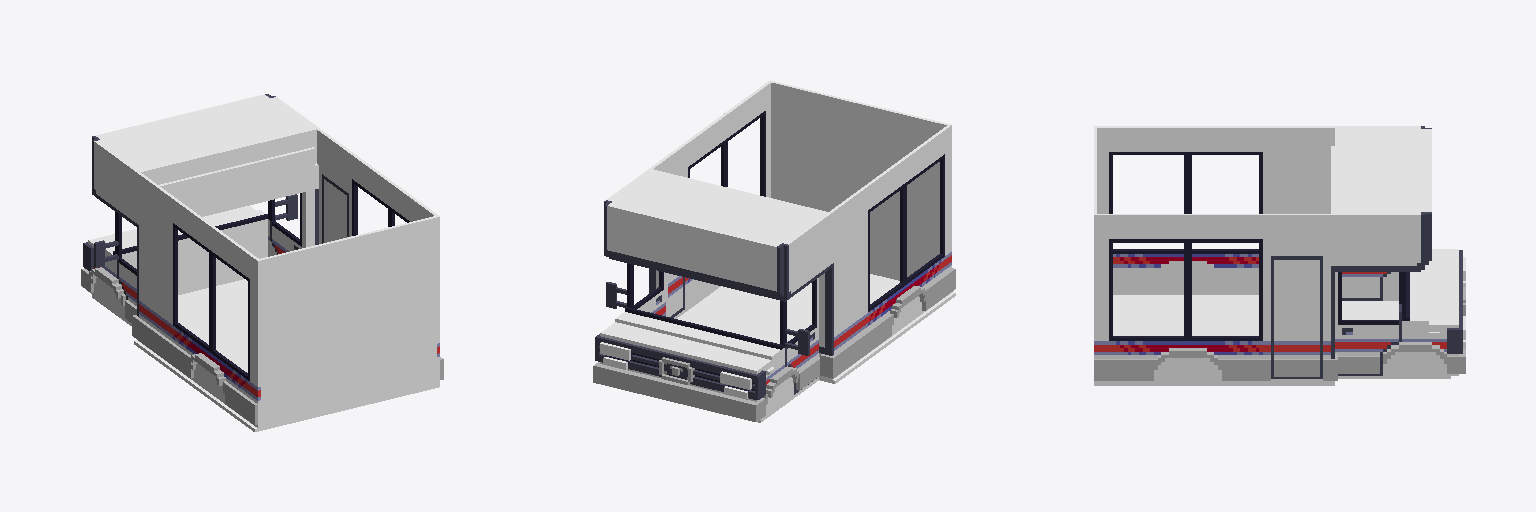
3 renders of one model, left to right at view 1: azimuth 30°, elevation 25°; view 2: azimuth 150°, elevation 25°; view 3: azimuth 270°, elevation 25°, orthographic.
Size of the model in its own units: 62 by 50 by 99.
Materials: 1 (1 with a texture image).